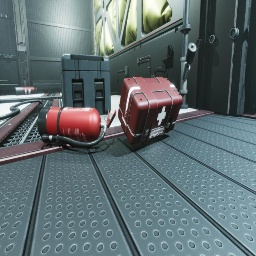FireExtinguisher ]: (37, 106, 116, 148)
FirstAidBox ,: (118, 77, 183, 145)
NitrogenTank ,: (15, 86, 37, 96)
